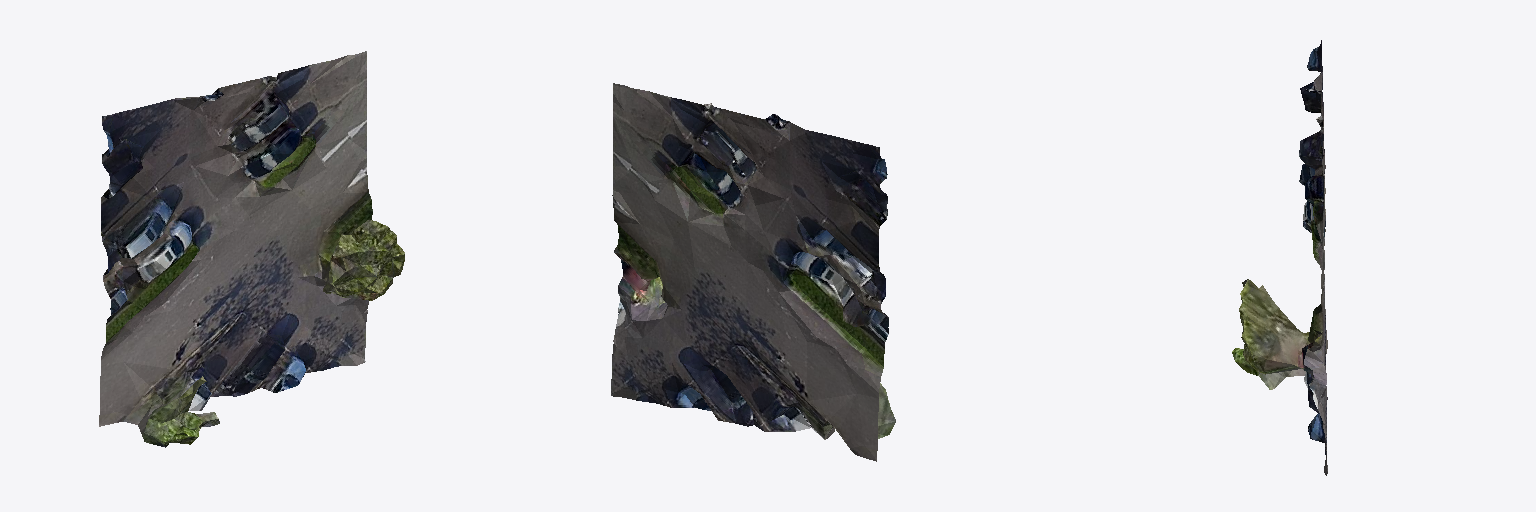
3 views of the same model, side by side, from view 1: azimuth 30°, elevation 25°; view 2: azimuth 150°, elevation 25°; view 3: azimuth 270°, elevation 25° (orthographic).
Parts seen in each view (by area): view 1: obj_0; view 2: obj_0; view 3: obj_0.
Boxes of the visible parts, x1,y1,x2,y2 form: obj_0: [99, 51, 404, 447]; obj_0: [611, 83, 895, 461]; obj_0: [1232, 40, 1327, 475].
Bounding box in the file's own units: 20.08 × 22.56 × 6.28.
1 materials, 1 textured.